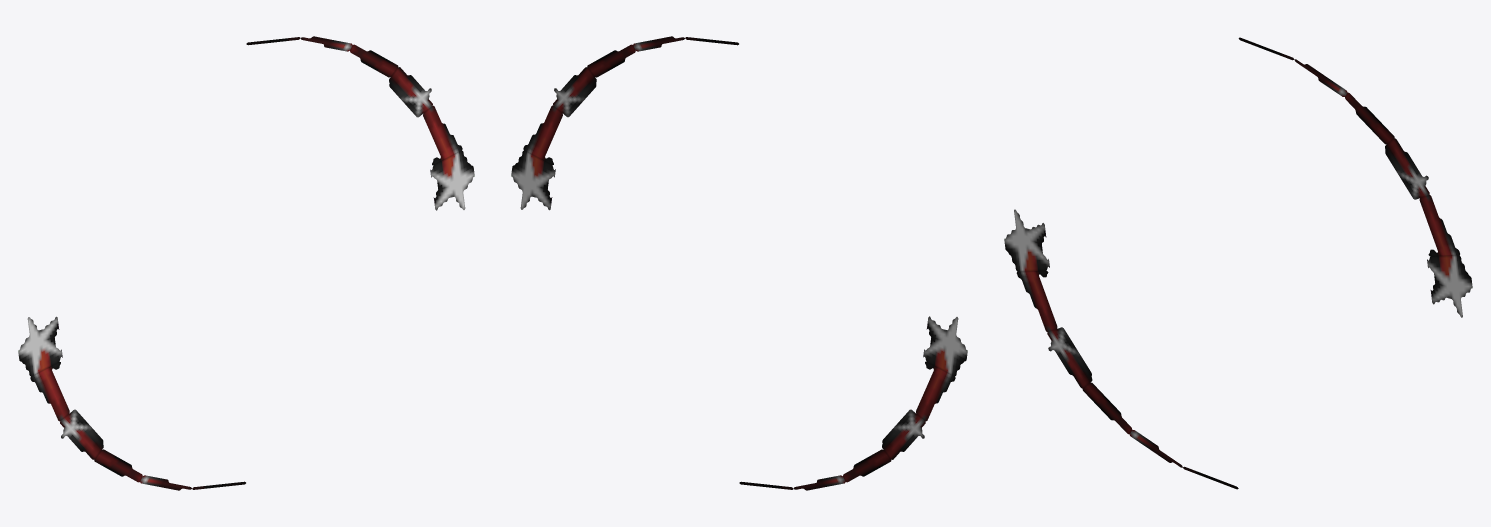
The picture shows the model from 3 angles, left to right: view 1: azimuth 30°, elevation 25°; view 2: azimuth 150°, elevation 25°; view 3: azimuth 330°, elevation 25°; orthographic projection. The views are drawn at different scales.
Parts seen in each view (by area): view 1: T1L4M004_22; view 2: T1L4M004_22; view 3: T1L4M004_22.
Part boxes in pixels (left/top/right/bottom): T1L4M004_22: left=18, top=36, right=474, bottom=490; T1L4M004_22: left=511, top=36, right=967, bottom=490; T1L4M004_22: left=1004, top=37, right=1472, bottom=489.
Bounding box in the file's own units: 2.06 × 2.06 × 0.000977.
